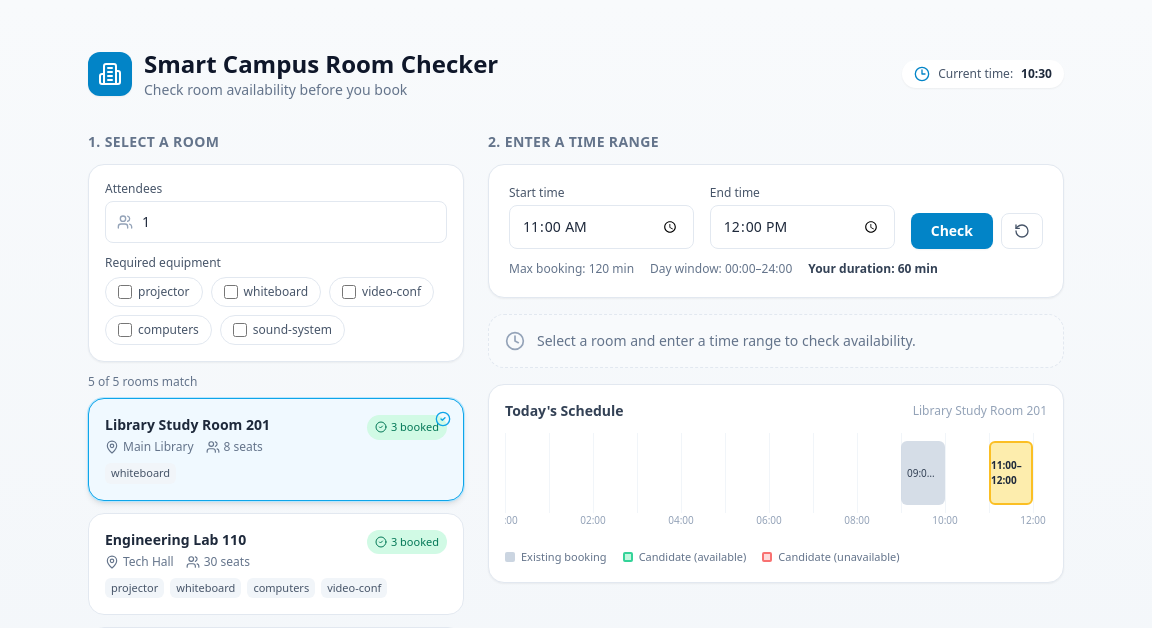
it: A5 mitigation M1 — time inputs are labelled and explain invalid values › a cleared time shows a visible, linked error and Check names the real problem
The image size is (1152, 628).
Clear the time field labelled "Start time" at [601, 227], box [509,205,694,249]
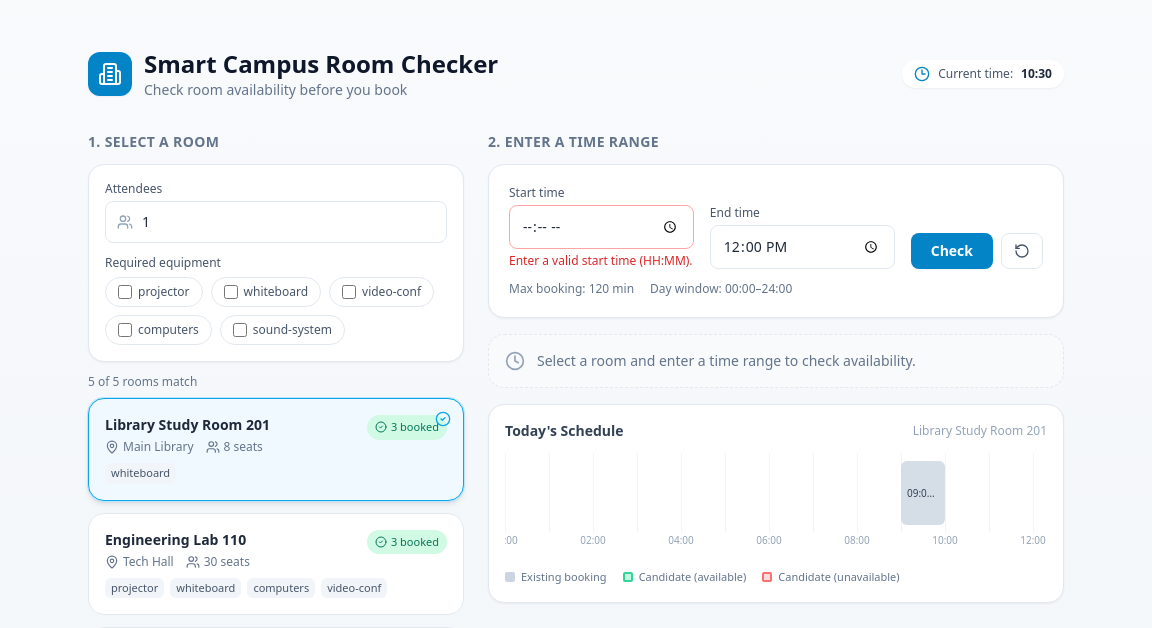
Result: the time field labelled "Start time" is marked as invalid at [509,205,694,249]
Click the button "Check" at [952, 251], box [911,233,993,269]
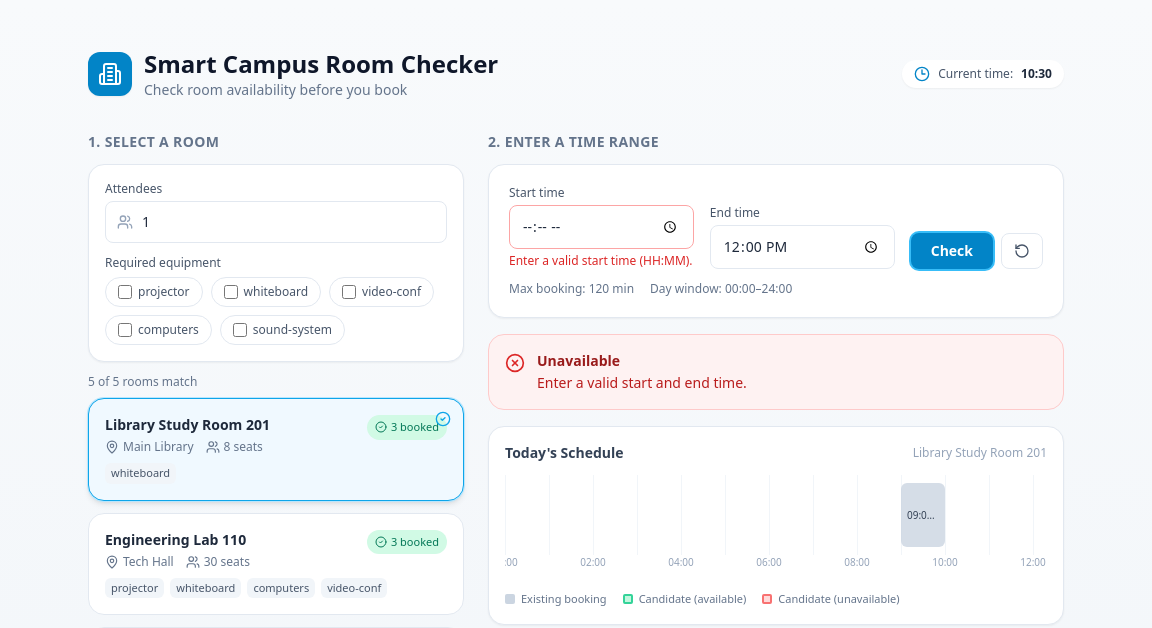
Result: the text "Enter a valid start and end time." is shown at [537,373,747,393]
